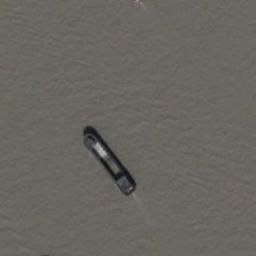boat: (81, 128, 136, 196)
